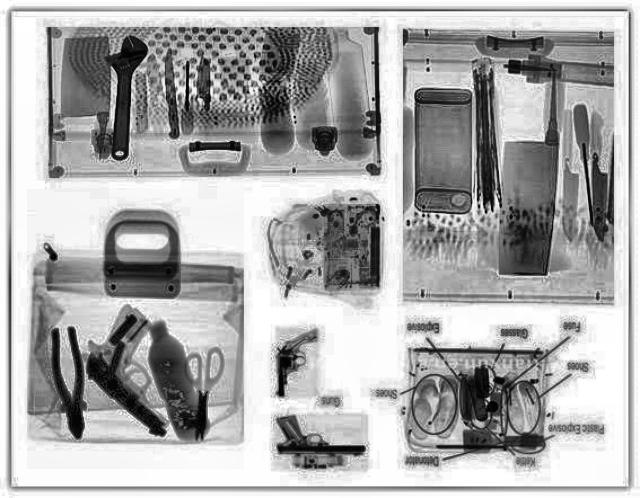Gun: (274, 412, 366, 455), (274, 330, 316, 396)
Knife: (495, 68, 557, 276), (586, 150, 610, 242), (562, 154, 578, 242)
Pliers: (48, 326, 86, 440)
Wrench: (104, 32, 148, 158)
